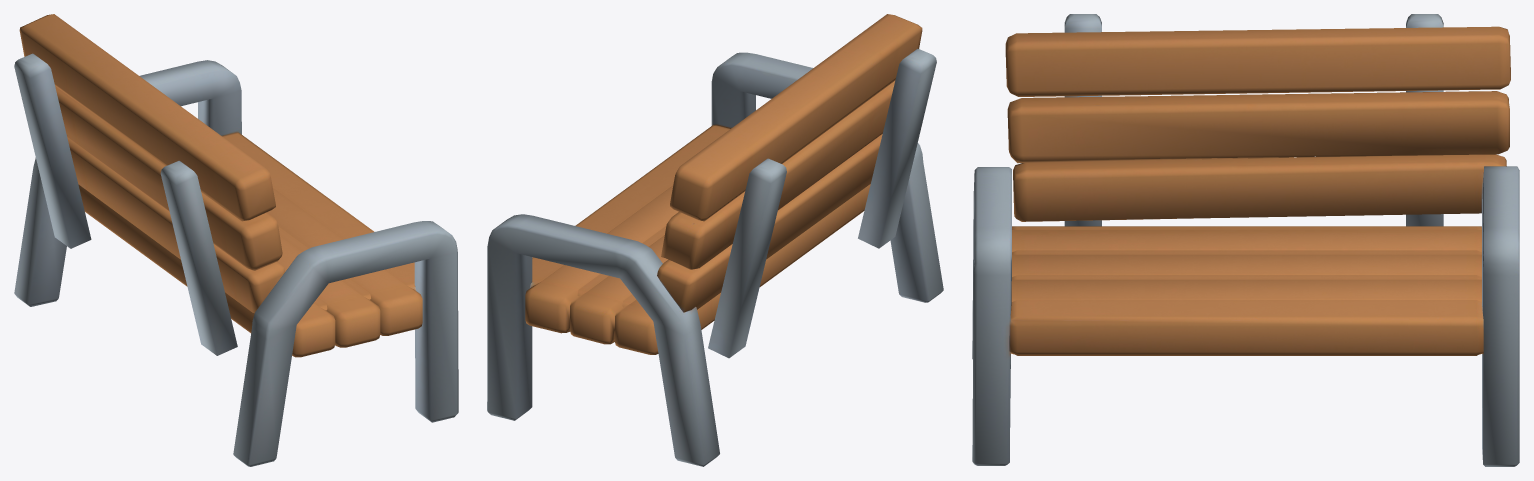
File: bench_v2.glb
3 views of the same model, side by side, from view 1: azimuth 30°, elevation 25°; view 2: azimuth 150°, elevation 25°; view 3: azimuth 270°, elevation 25° (orthographic). The views are drawn at different scales.
Visible parts, largest first — view 1: tripo_node_6dc21e50-f4b6-443e-ae5c-7eb5efd8beff; view 2: tripo_node_6dc21e50-f4b6-443e-ae5c-7eb5efd8beff; view 3: tripo_node_6dc21e50-f4b6-443e-ae5c-7eb5efd8beff.
Part boxes in pixels (left/top/right/bottom): tripo_node_6dc21e50-f4b6-443e-ae5c-7eb5efd8beff: left=14, top=14, right=458, bottom=466; tripo_node_6dc21e50-f4b6-443e-ae5c-7eb5efd8beff: left=487, top=14, right=943, bottom=466; tripo_node_6dc21e50-f4b6-443e-ae5c-7eb5efd8beff: left=972, top=14, right=1519, bottom=466.
Bounding box in the file's own units: 0.6035 × 0.6621 × 0.998.
1 material, 1 textured.
